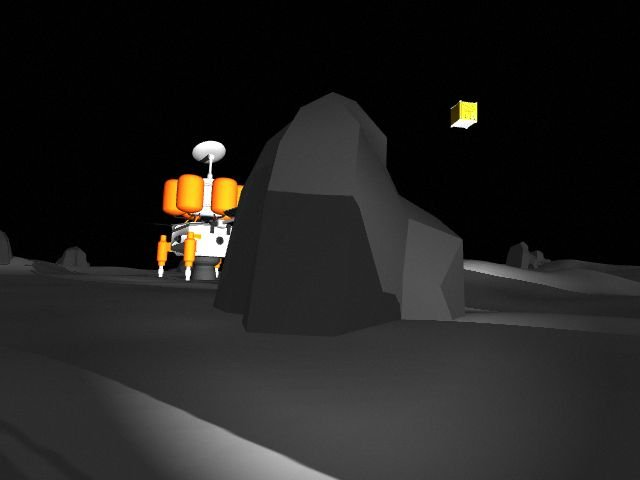homebase: (141, 139, 277, 284)
